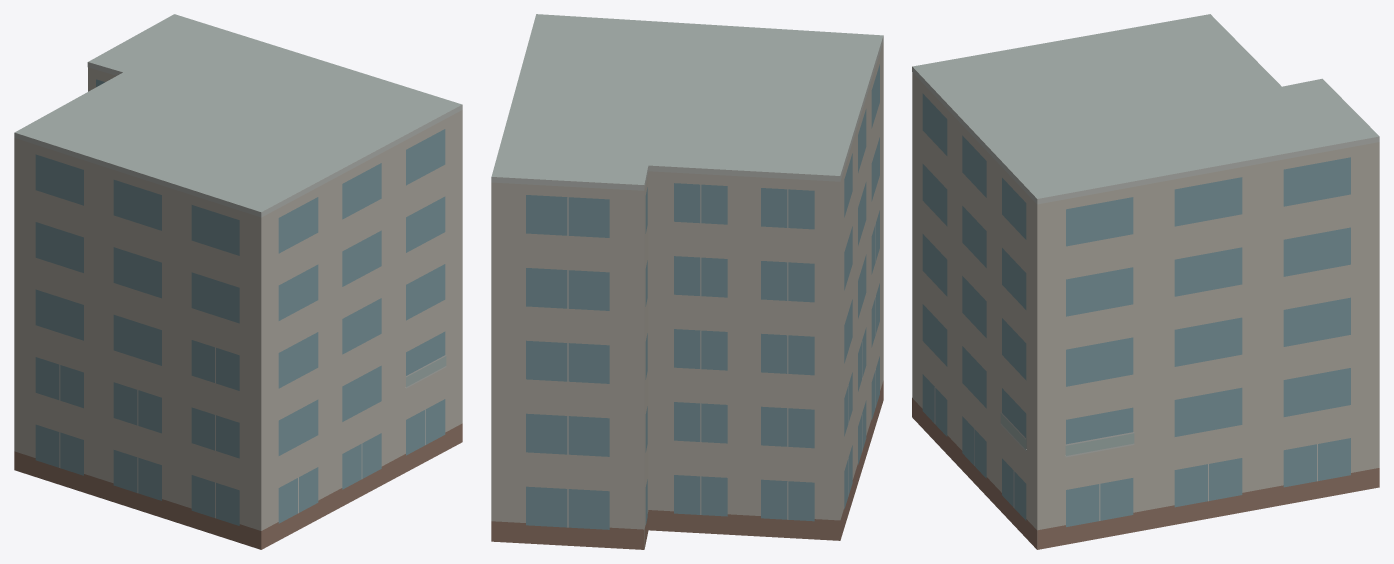
Rendered from survey-upis-32845576.glb.
The picture shows the model from 3 angles, left to right: view 1: azimuth 30°, elevation 25°; view 2: azimuth 150°, elevation 25°; view 3: azimuth 270°, elevation 25°; orthographic projection. The views are drawn at different scales.
Visible parts, largest first — view 1: survey-upis-32845576.tmp; view 2: survey-upis-32845576.tmp; view 3: survey-upis-32845576.tmp.
Part boxes in pixels (x1,y1,x2,y2): survey-upis-32845576.tmp: (14, 14, 462, 549); survey-upis-32845576.tmp: (491, 14, 883, 549); survey-upis-32845576.tmp: (912, 14, 1379, 549).
Bounding box in the file's own units: 17.63 × 15.58 × 18.82.
